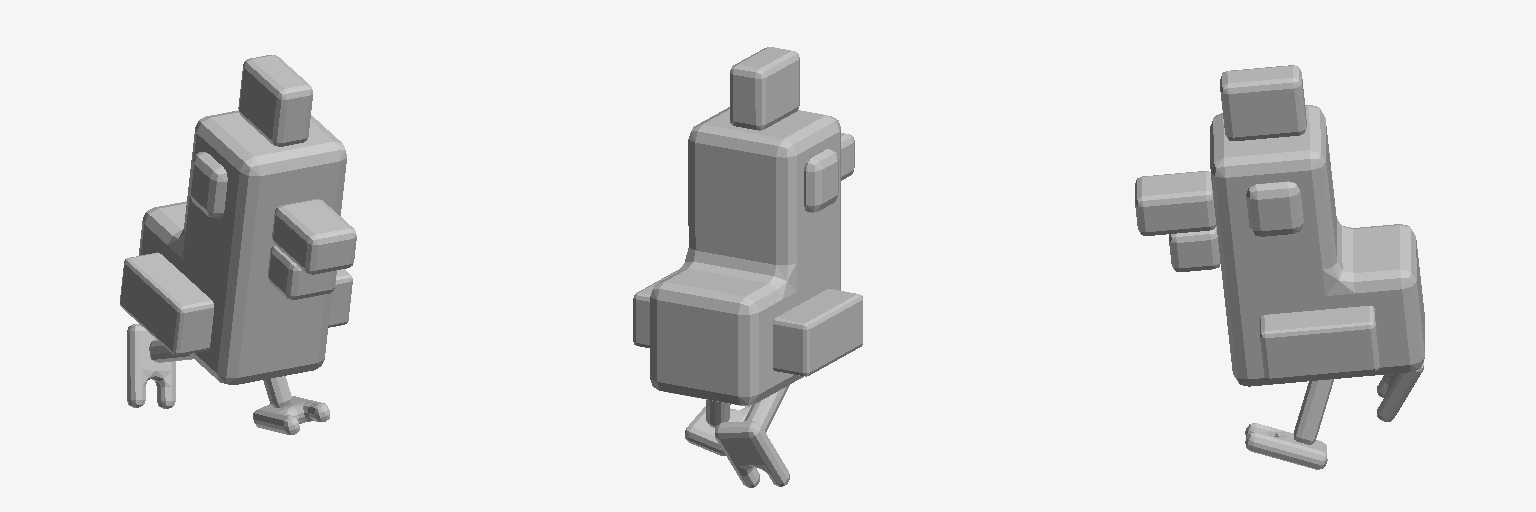
The model's file is Chicken.obj.
The picture shows the model from 3 angles: view 1: azimuth 30°, elevation 25°; view 2: azimuth 150°, elevation 25°; view 3: azimuth 270°, elevation 25°; orthographic projection.
Visible parts, largest first — view 1: Chicken_Cube.054; view 2: Chicken_Cube.054; view 3: Chicken_Cube.054.
Boxes of the visible parts, x1,y1,x2,y2 form: Chicken_Cube.054: [120, 55, 356, 434]; Chicken_Cube.054: [633, 47, 862, 487]; Chicken_Cube.054: [1135, 65, 1424, 469].
Size of the model in its own units: 0.6198 by 1.27 by 0.8748.